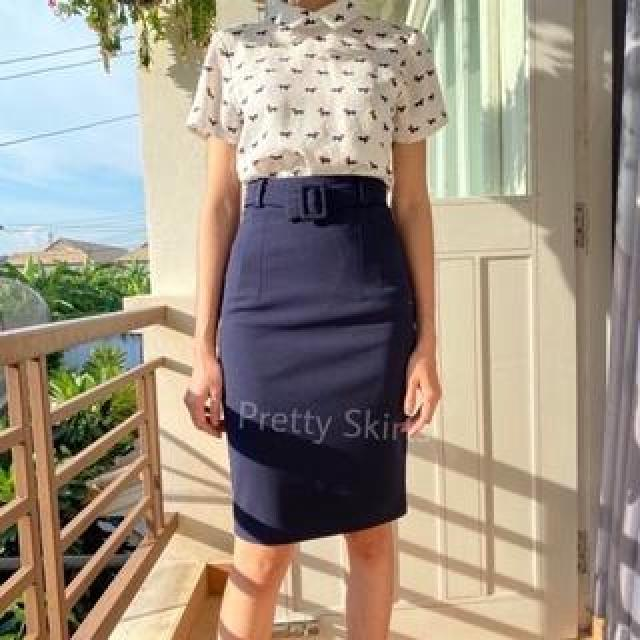Tshirt: (182, 0, 454, 204)
skirt: (203, 161, 439, 559)
